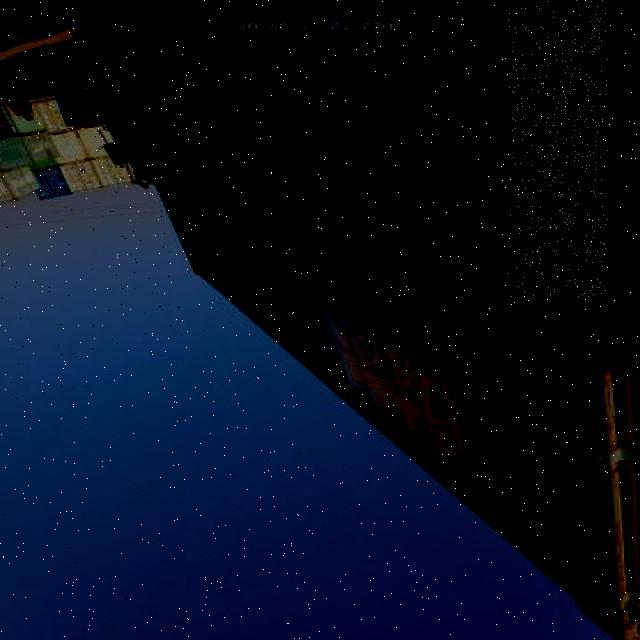Rust: (508, 0, 608, 297)
